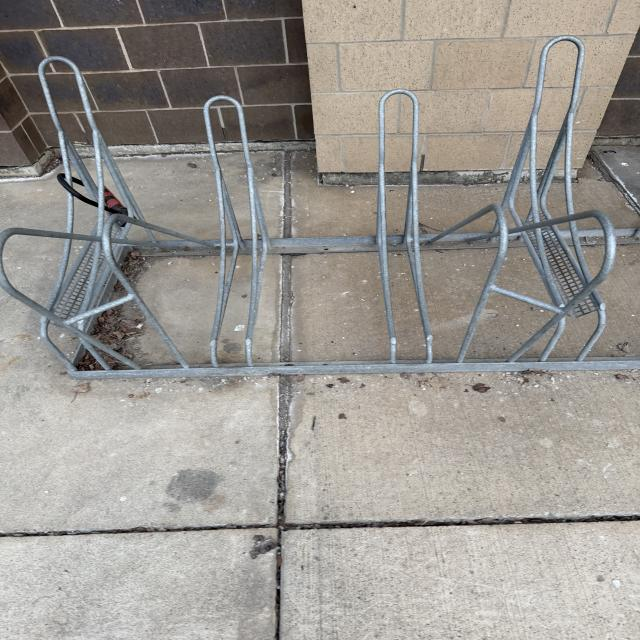Bicycle Rack: (1, 34, 640, 383)
